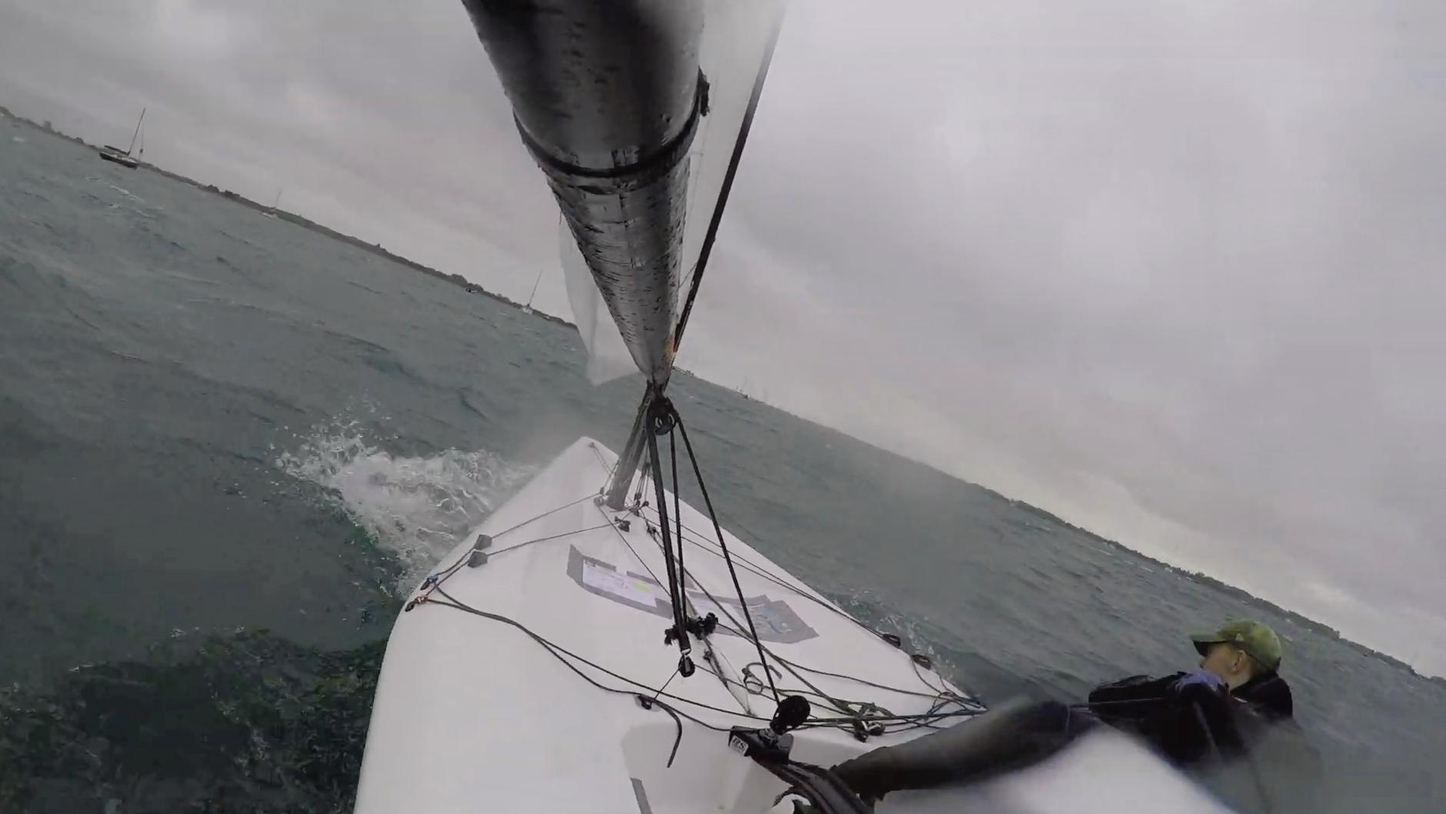boat: (353, 0, 1238, 814)
person: (794, 622, 1299, 814)
sea: (0, 111, 641, 814), (668, 374, 1446, 814)
sky: (674, 0, 1446, 684), (0, 0, 587, 319)
